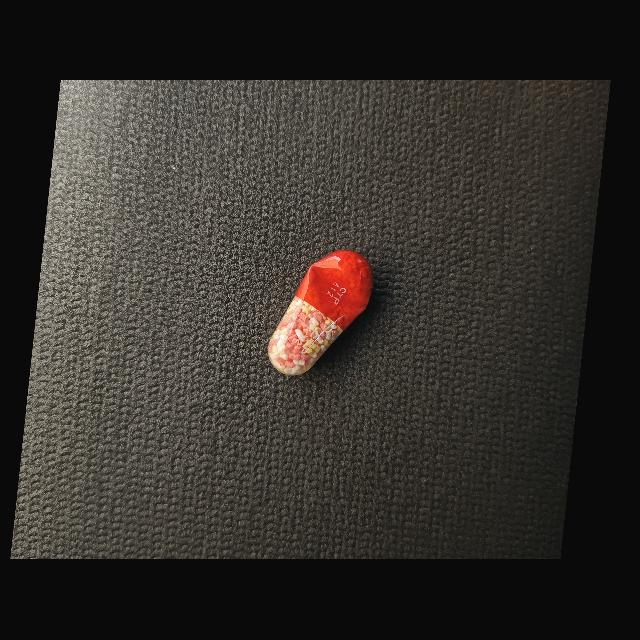Defective Capsule: (268, 251, 372, 376)
